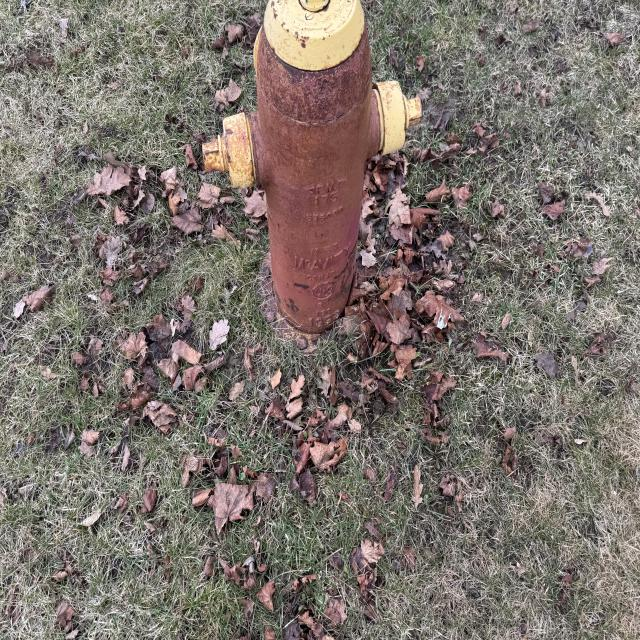Fire hydrant: (199, 1, 425, 358)
